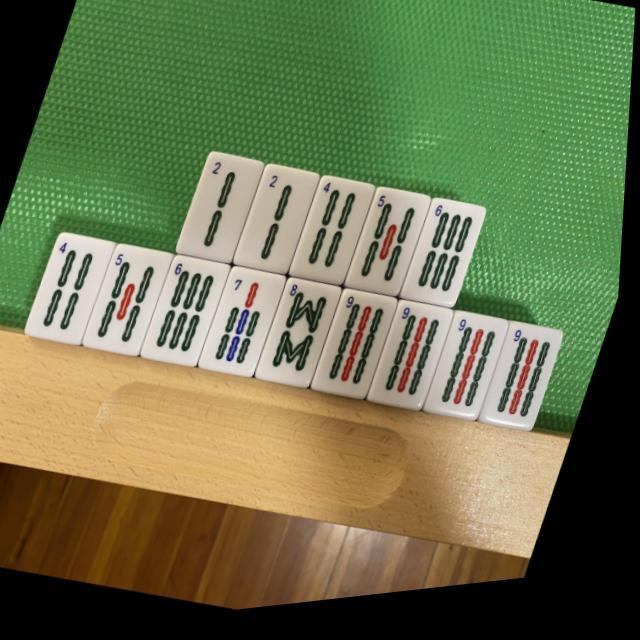sb2: (178, 152, 268, 272), (236, 165, 322, 284)
sb4: (26, 230, 119, 352), (292, 178, 378, 296)
sb5: (86, 242, 176, 364), (348, 192, 434, 308)
sb6: (144, 256, 233, 376), (404, 204, 490, 320)
sb7: (202, 268, 290, 387)
sb8: (258, 280, 346, 400)
sb9: (315, 293, 402, 411), (372, 306, 458, 422), (429, 318, 513, 434), (486, 331, 568, 445)
